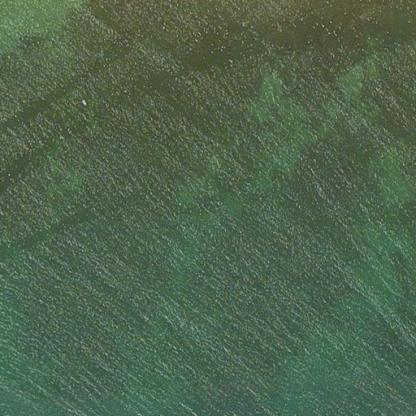ship: (76, 94, 90, 112)
